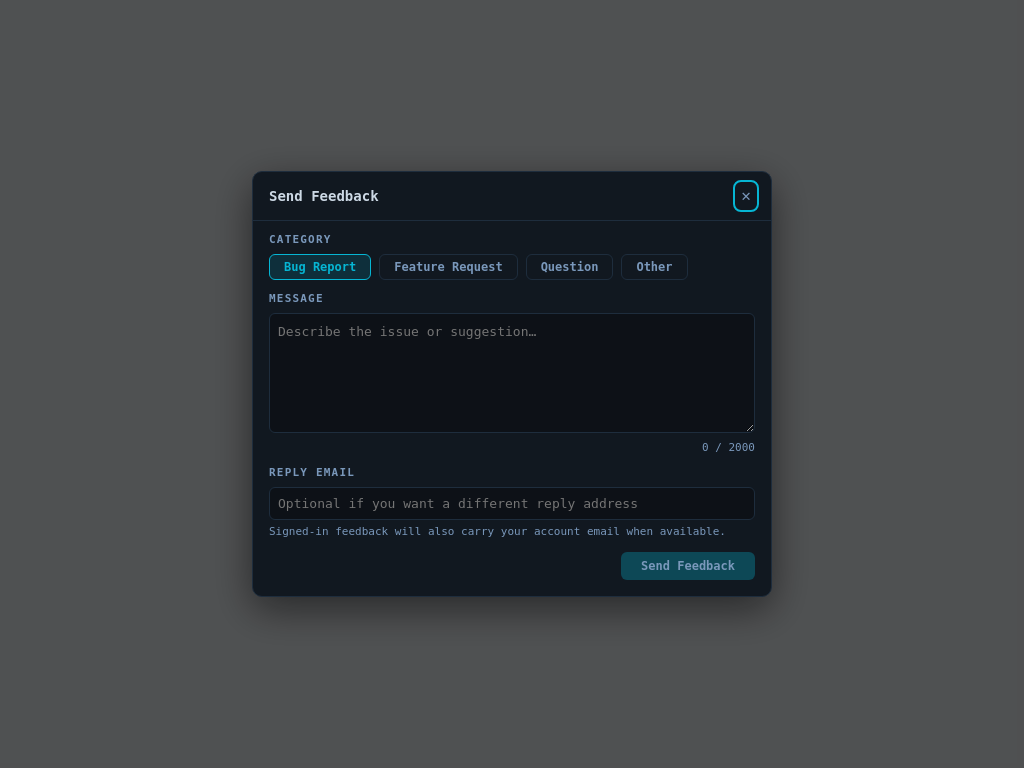
Test: FeedbackModal › shows an inline error when reply email is invalid
Type "Please contact me about this issue" into the text box named "feedback message" at (512, 373), box x1=269 y1=313 x2=755 y2=433
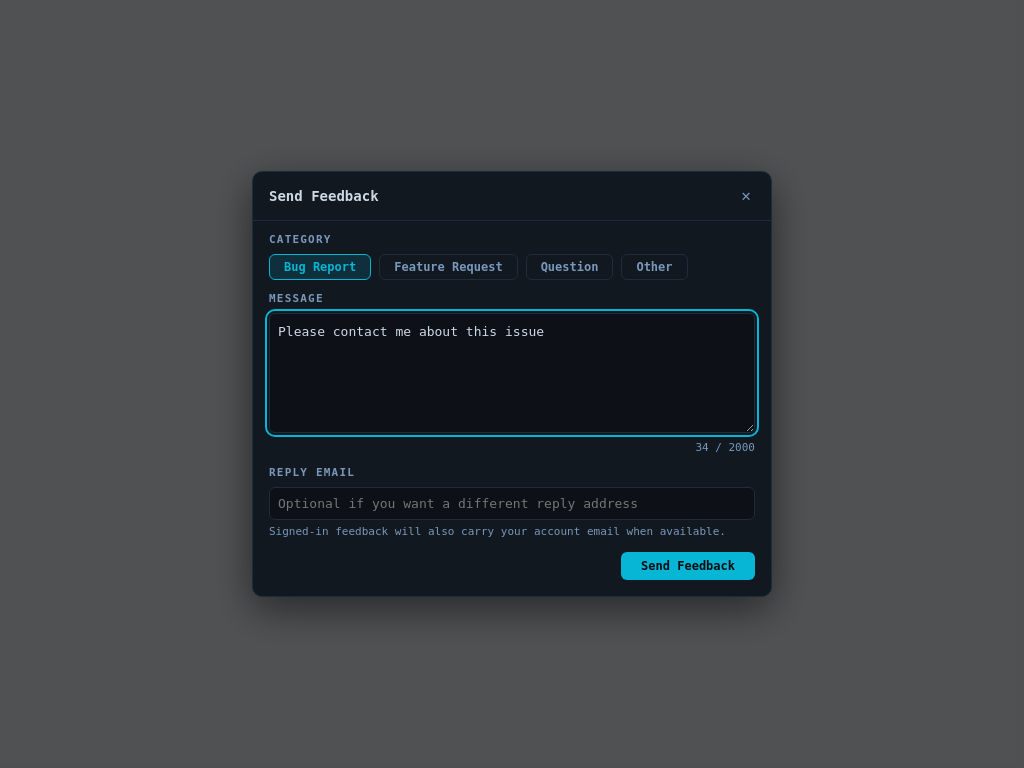
Type "not-an-email" into the field named "reply email" at (512, 504), box x1=269 y1=487 x2=755 y2=520
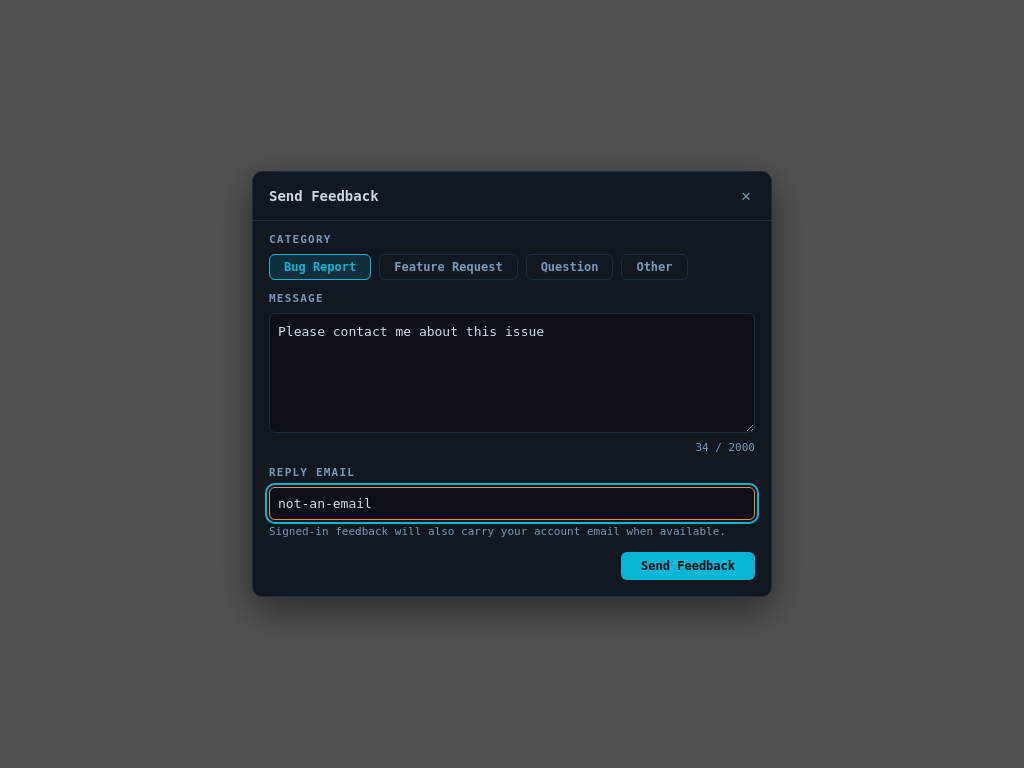
Click the button "Send Feedback" at (688, 566), box x1=621 y1=552 x2=755 y2=580
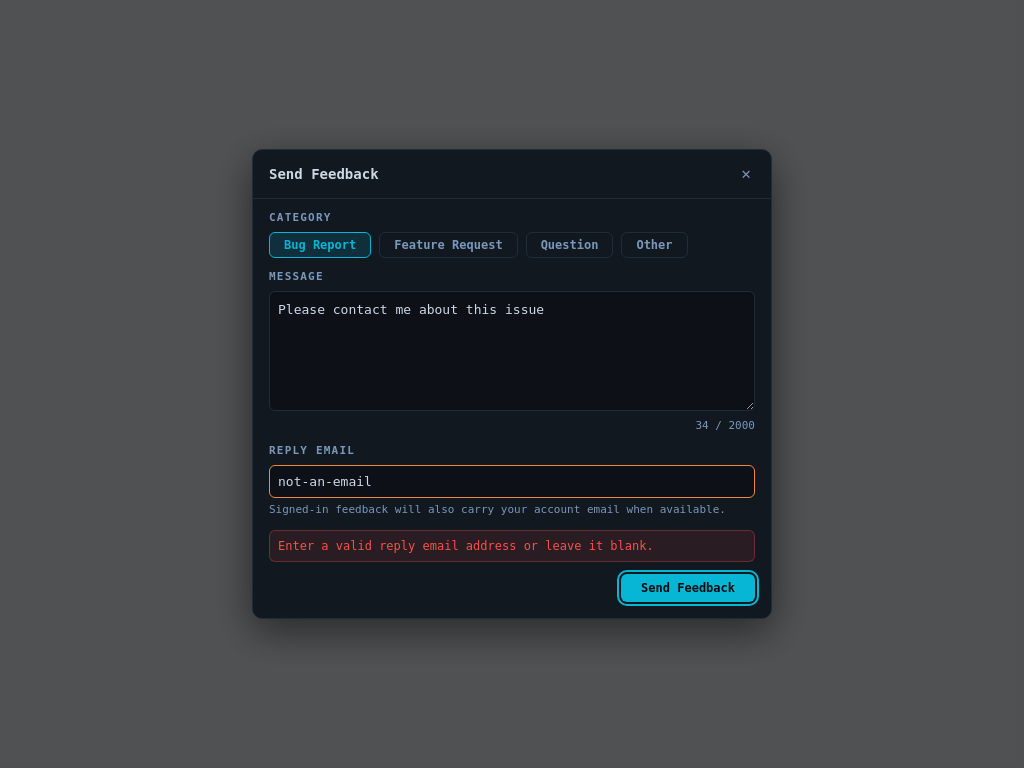
Result: the text "Enter a valid reply email address or leave it blank." is shown at x1=269 y1=530 x2=755 y2=562
